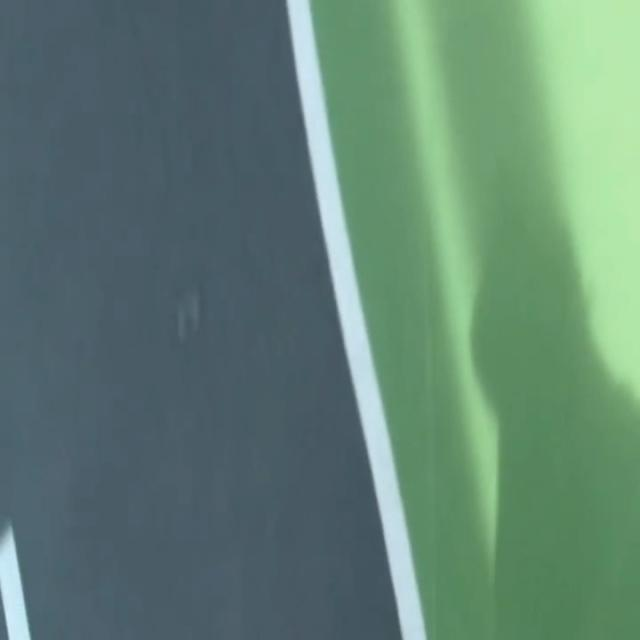center: (0, 527, 30, 639)
right: (286, 0, 426, 639)
